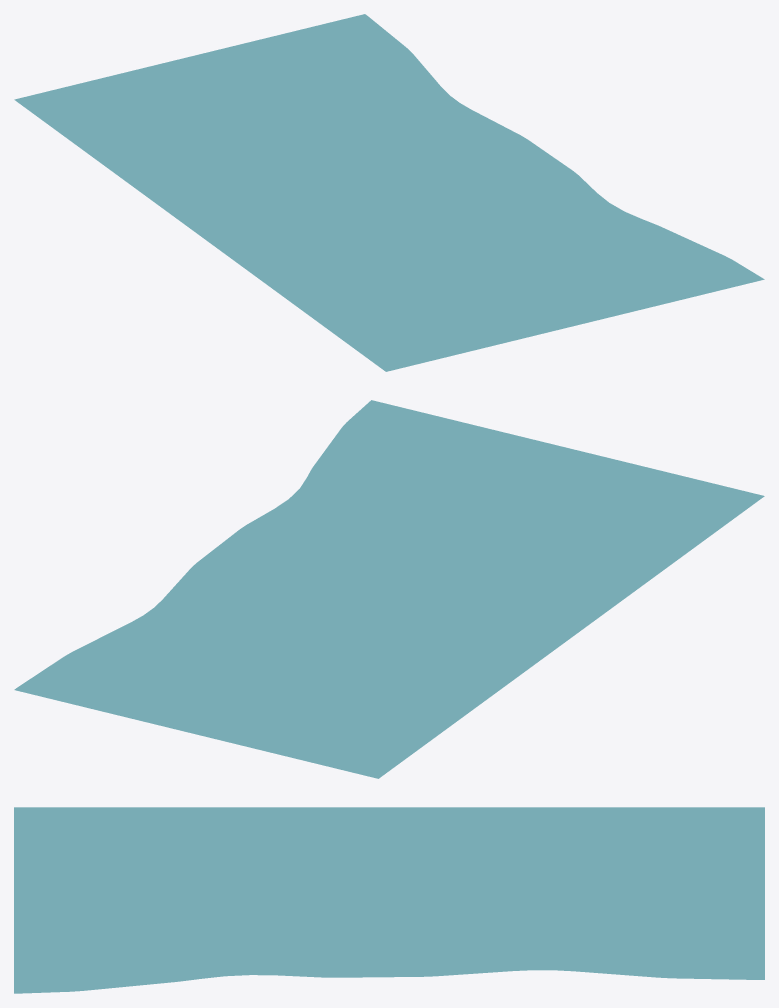
The picture shows the model from 3 angles, top to bottom: view 1: azimuth 30°, elevation 25°; view 2: azimuth 150°, elevation 25°; view 3: azimuth 270°, elevation 25°; orthographic projection. The views are drawn at different scales.
Parts seen in each view (by area): view 1: city; view 2: city; view 3: city.
Boxes of the visible parts, <box> form: city: <box>14,14,764,371</box>; city: <box>14,400,764,778</box>; city: <box>14,807,764,993</box>.
Size of the model in its own units: 294 by 0 by 500.
